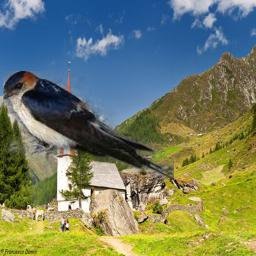Swallow: (3, 71, 174, 180)
